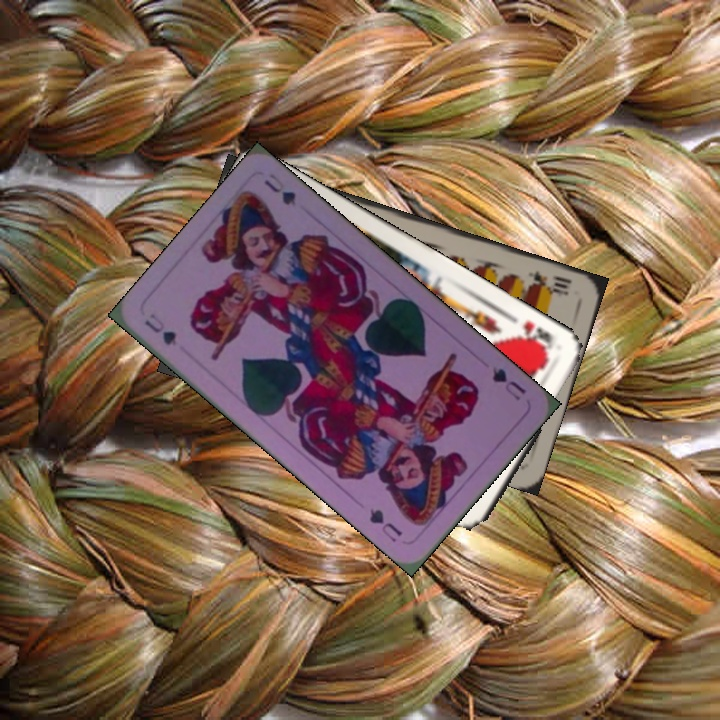E10: (524, 266, 575, 299)
GU: (488, 363, 529, 403), (140, 309, 179, 349)
HK: (514, 316, 556, 356)
